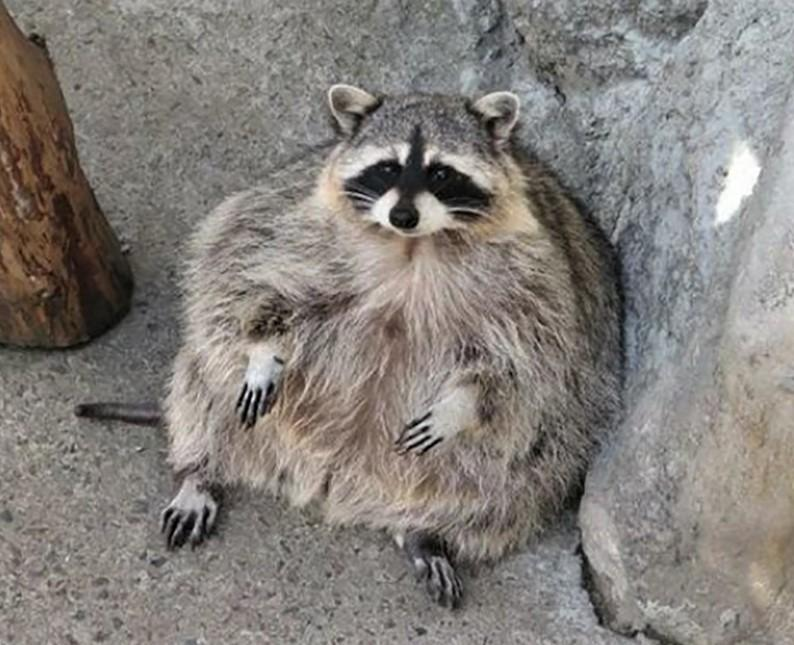raccoon: (156, 74, 623, 614)
